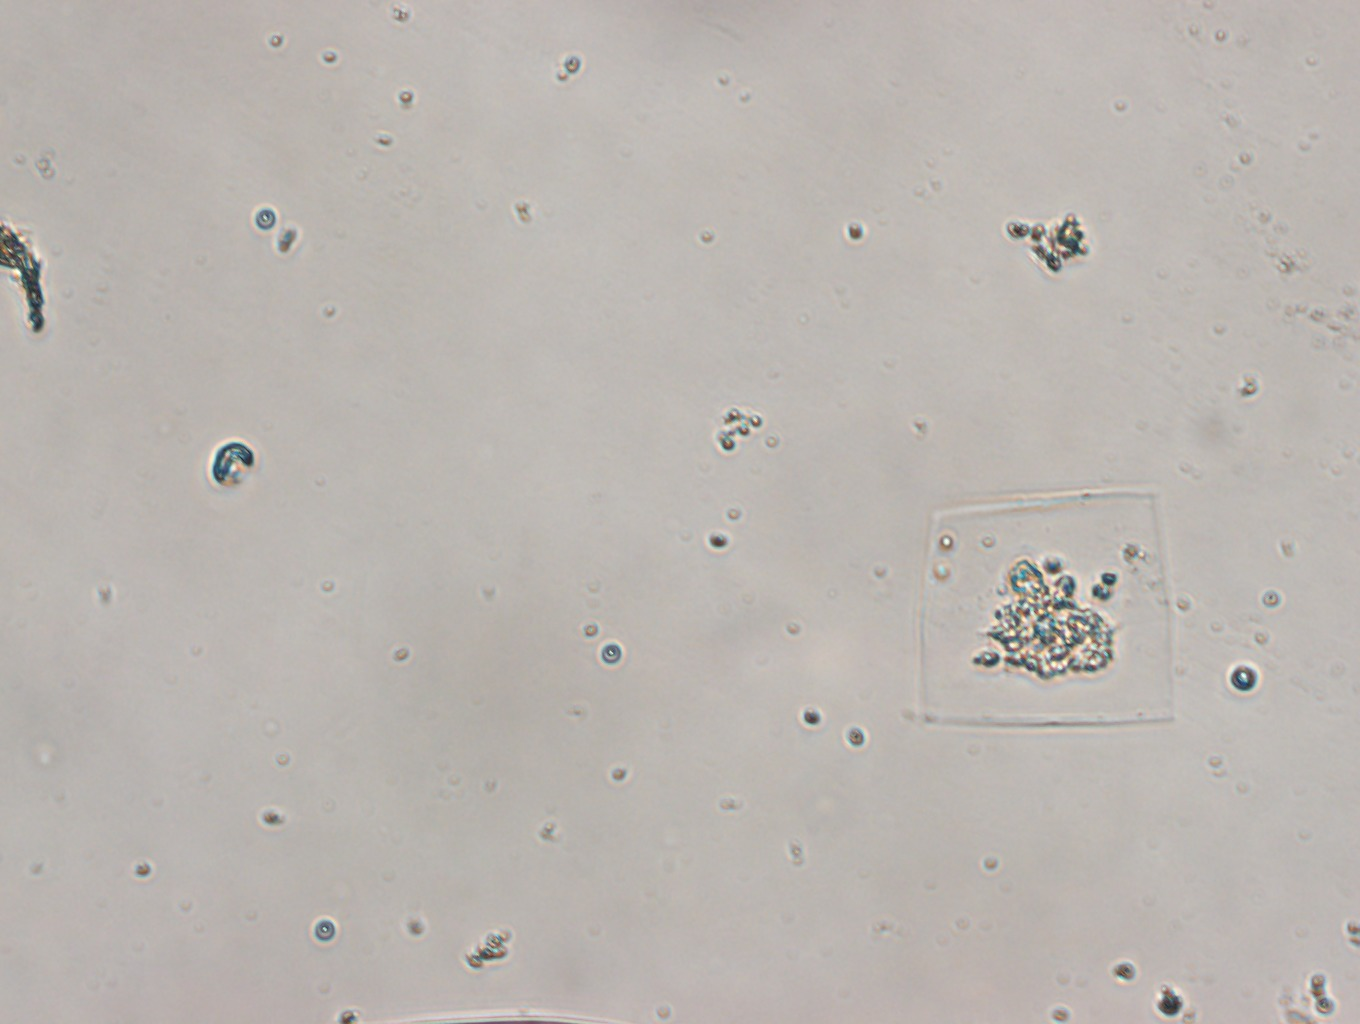helicotheca: (914, 483, 1175, 729)
